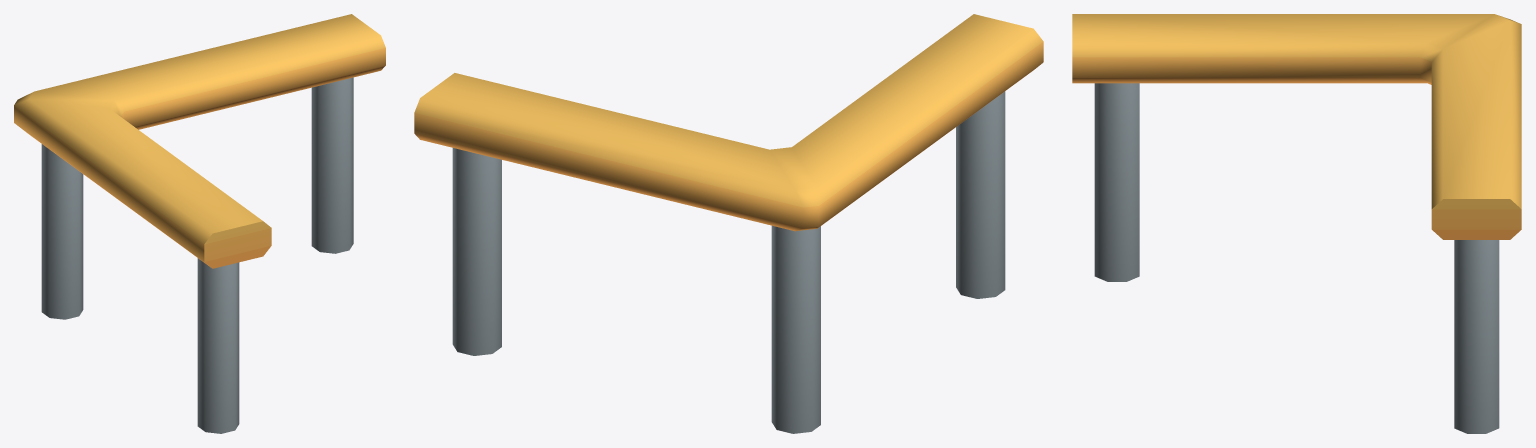
File: railing_corner_single_yellow.glb
3 renders of one model, left to right at view 1: azimuth 30°, elevation 25°; view 2: azimuth 150°, elevation 25°; view 3: azimuth 270°, elevation 25°, orthographic. The views are drawn at different scales.
Visible parts, largest first — view 1: railing_corner_single_yellow; view 2: railing_corner_single_yellow; view 3: railing_corner_single_yellow.
Part boxes in pixels (box(x1,y1,x2,y2)): railing_corner_single_yellow: box(14, 14, 385, 433); railing_corner_single_yellow: box(414, 14, 1043, 433); railing_corner_single_yellow: box(1072, 14, 1521, 433).
Size of the model in its own units: 2 by 1.2 by 2.
1 material, 1 textured.
